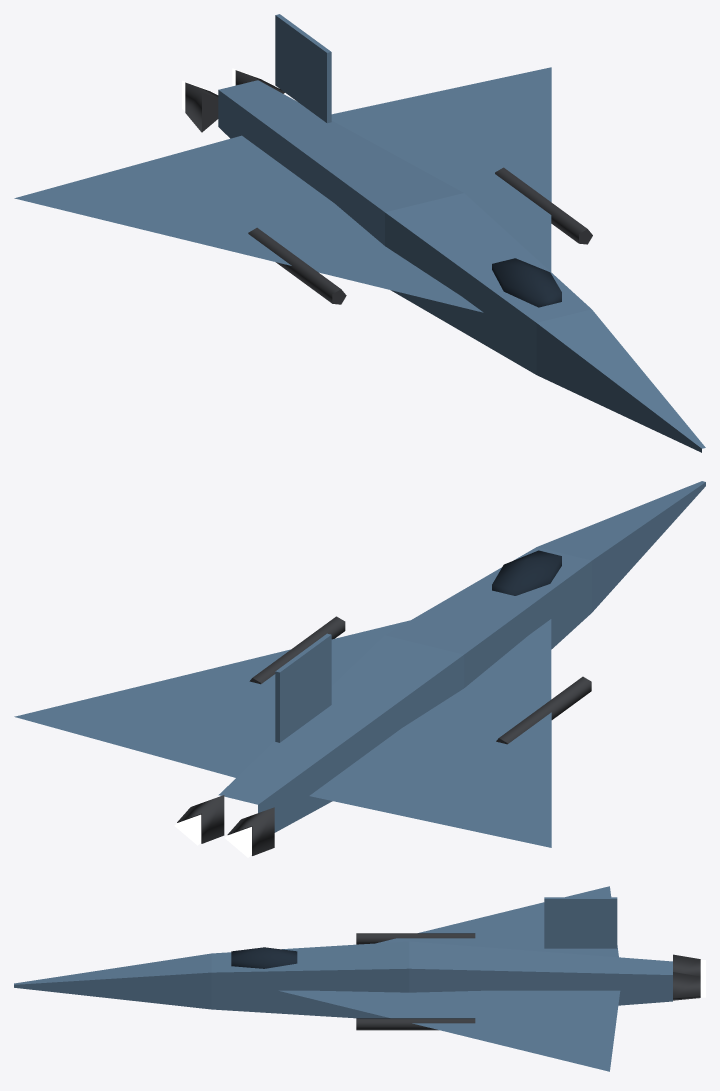
The model's file is space_ship_interceptor_mk6_lod2.glb.
3 views of the same model, one above another, from view 1: azimuth 30°, elevation 25°; view 2: azimuth 150°, elevation 25°; view 3: azimuth 270°, elevation 25° (orthographic). The views are drawn at different scales.
Parts seen in each view (by area): view 1: body, gun_r, gun_l, engine_0; view 2: body, engine_1, engine_0, gun_r, gun_l; view 3: body, gun_l, gun_r, engine_1, engine_0.
Part boxes in pixels (<box>): body: <box>14,14,705,452</box>; gun_r: <box>248,227,346,304</box>; gun_l: <box>495,167,592,244</box>; engine_0: <box>182,80,218,132</box>; body: <box>14,481,705,847</box>; engine_1: <box>174,795,224,845</box>; engine_0: <box>225,807,274,857</box>; gun_r: <box>496,676,591,744</box>; gun_l: <box>249,616,345,684</box>; body: <box>14,886,672,1071</box>; gun_l: <box>356,1018,475,1030</box>; gun_r: <box>356,933,475,944</box>; engine_1: <box>673,972,705,1000</box>; engine_0: <box>673,954,705,977</box>.
Size of the model in its own units: 9.6 by 2.65 by 15.12.
